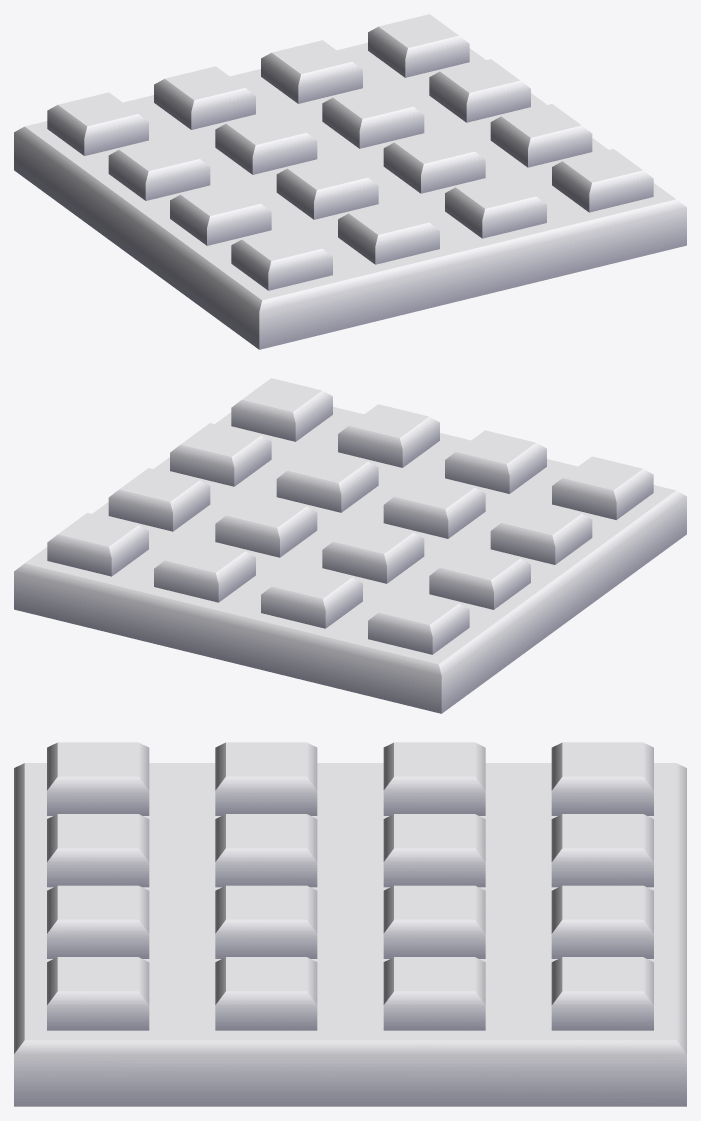
File: square-hq-plate-4x4.glb
3 views of the same model, one above another, from view 1: azimuth 30°, elevation 25°; view 2: azimuth 150°, elevation 25°; view 3: azimuth 270°, elevation 25° (orthographic). The views are drawn at different scales.
Parts seen in each view (by area): view 1: square-hq-plate-4x4; view 2: square-hq-plate-4x4; view 3: square-hq-plate-4x4.
Boxes of the visible parts, box(x1,y1,x2,y2) form: square-hq-plate-4x4: box(14, 14, 686, 349); square-hq-plate-4x4: box(14, 378, 686, 713); square-hq-plate-4x4: box(14, 742, 686, 1106).
Bounding box in the file's own units: 1.59 × 0.25 × 1.58.
Materials: 1 (1 with a texture image).
